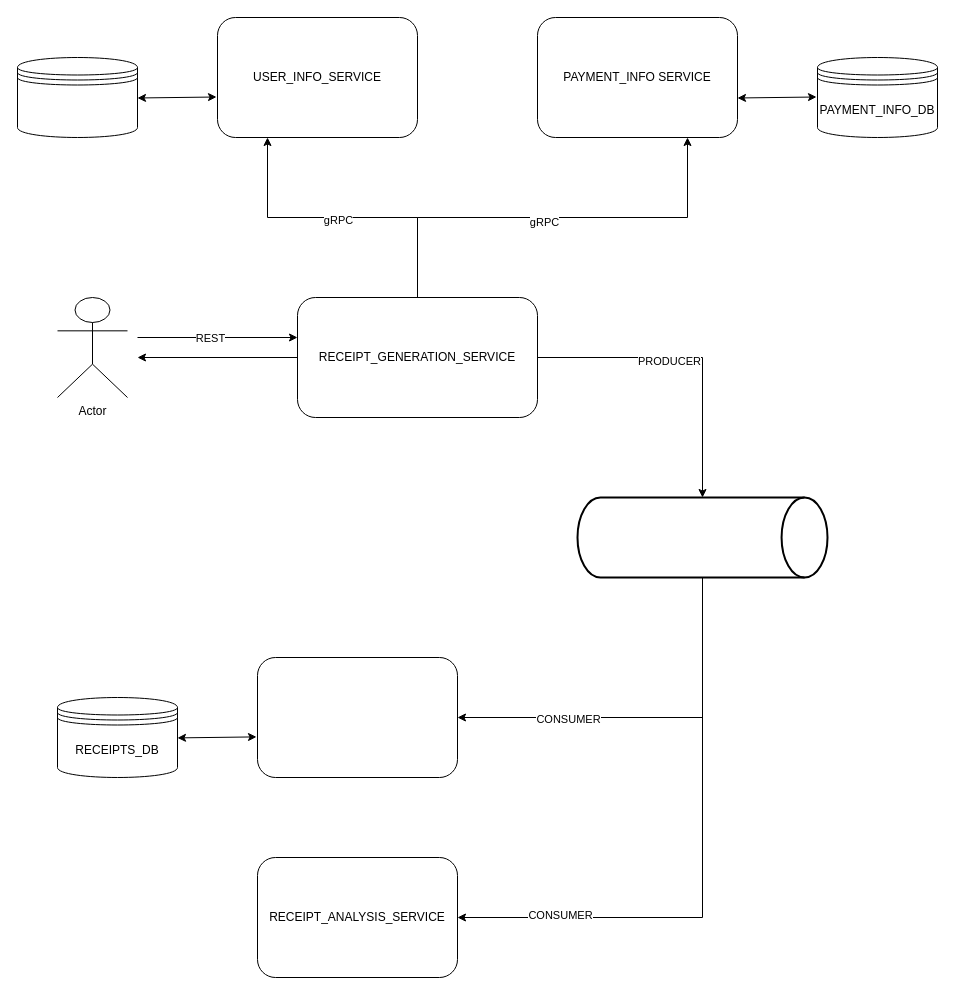
Some shapes in this 955 by 995 pixel diagram are drawn without their labels. Each missing label, with the centre of its shape:
"Kafka topic" goes at pixel 702 537.
"RECEIPT_STORAGE_SERVICE" goes at pixel 357 717.
"USER_INFO_DB" goes at pixel 77 97.
